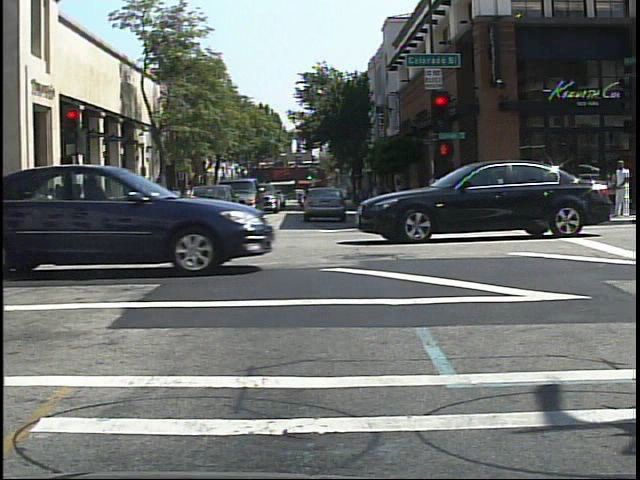person: (610, 156, 637, 221)
